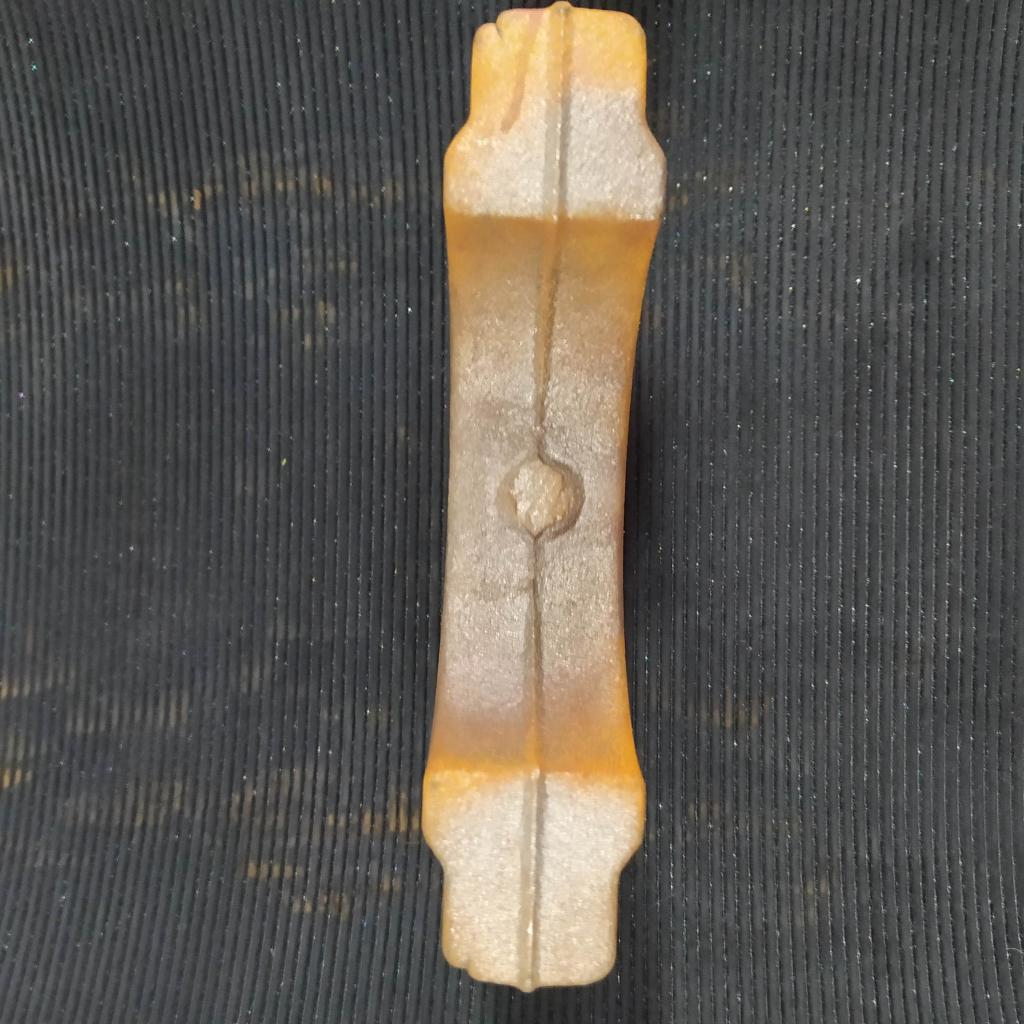rechupe: (485, 6, 509, 42), (457, 960, 478, 982)
